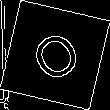O_SE: (23, 22, 87, 88)
